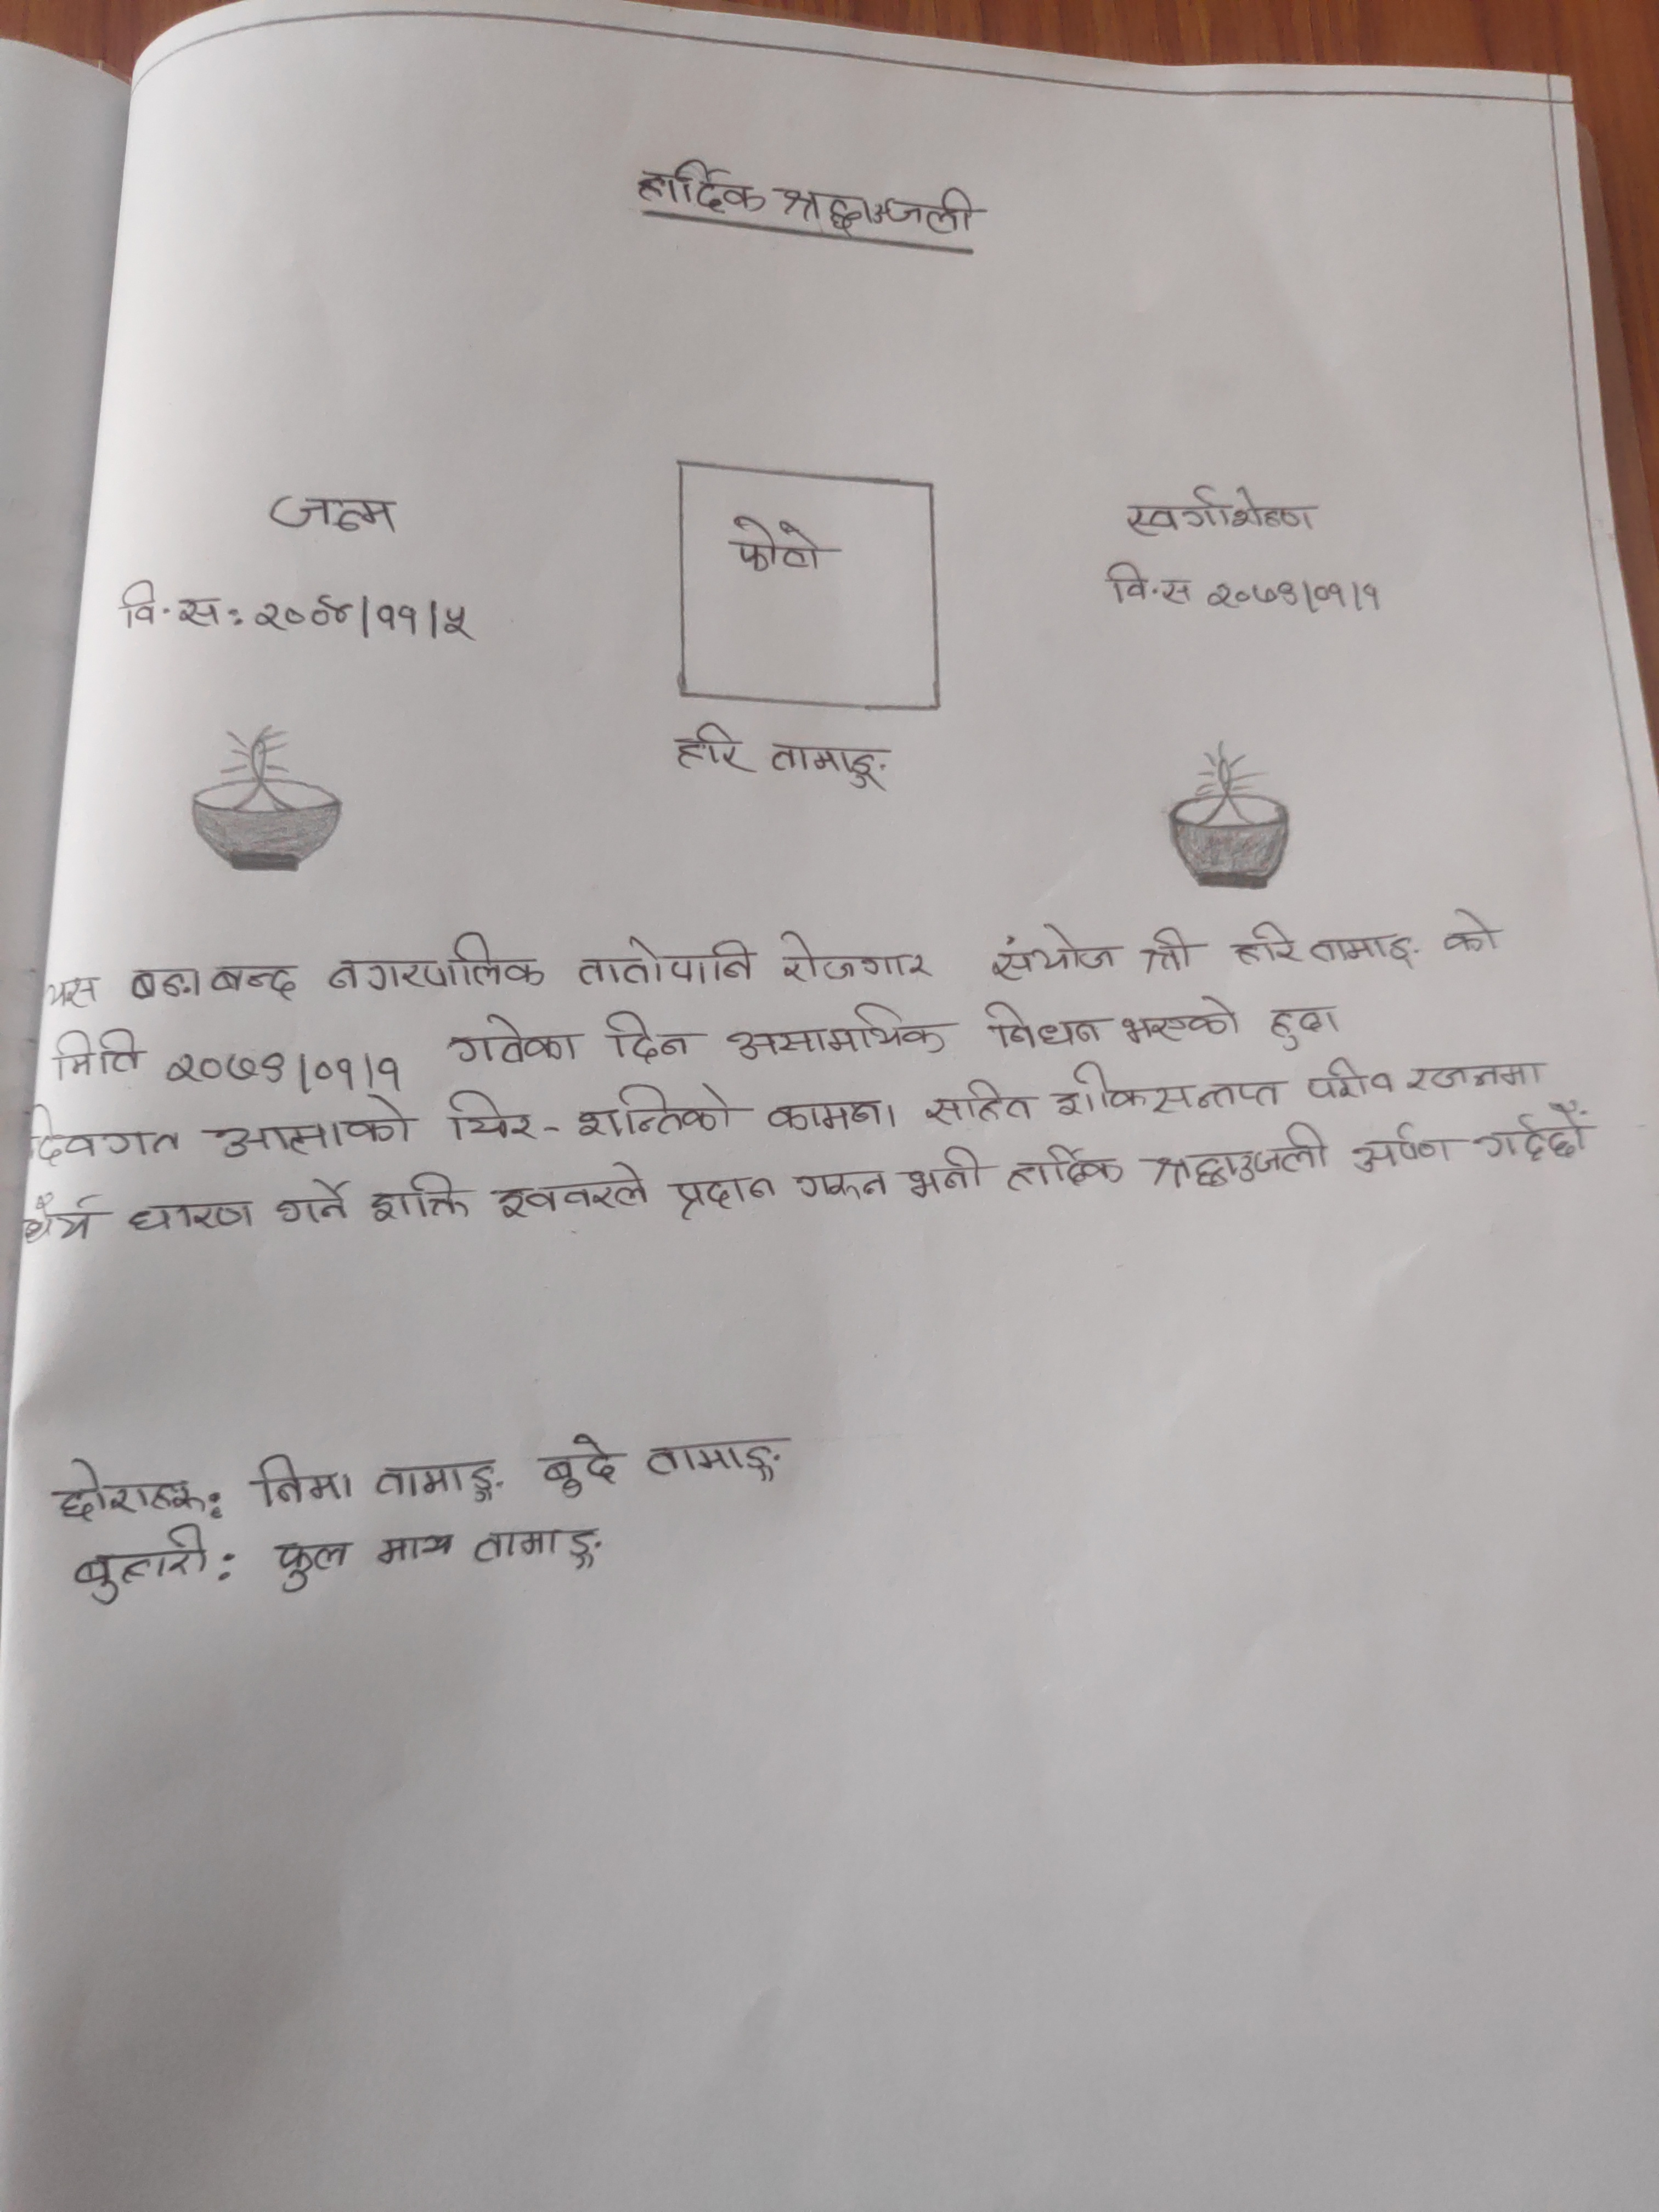text: (727, 1003, 955, 1066), (328, 928, 542, 995), (251, 589, 481, 646), (1054, 1064, 1288, 1120), (775, 181, 981, 244), (160, 1043, 410, 1094), (209, 1099, 415, 1160), (1141, 1125, 1338, 1188), (774, 918, 931, 989), (573, 932, 765, 988), (71, 1529, 216, 1601), (1124, 488, 1314, 542), (45, 1458, 207, 1521), (626, 158, 770, 226), (573, 1078, 737, 1137), (28, 1109, 186, 1170), (493, 1163, 652, 1224), (1469, 1103, 1607, 1170), (640, 1428, 795, 1487), (1202, 571, 1389, 620), (444, 1010, 589, 1073), (125, 956, 303, 1007), (749, 1090, 918, 1143), (988, 920, 1121, 984), (972, 991, 1105, 1055), (723, 514, 835, 587), (1114, 993, 1248, 1052), (765, 735, 904, 791), (1396, 1054, 1568, 1097), (471, 1526, 610, 1575), (1006, 1141, 1131, 1195), (267, 491, 404, 540), (246, 1454, 356, 1514), (532, 1430, 624, 1500), (366, 1170, 471, 1231), (369, 1460, 516, 1503), (124, 1188, 258, 1235), (918, 1076, 1039, 1129), (443, 1087, 545, 1148), (1345, 1116, 1453, 1174), (51, 1024, 150, 1085), (115, 577, 223, 632), (664, 1172, 784, 1221), (1298, 928, 1424, 972), (598, 1007, 694, 1062), (903, 1143, 990, 1204), (16, 1190, 112, 1244), (1101, 561, 1197, 611), (796, 1162, 894, 1211), (671, 723, 749, 782), (274, 1538, 352, 1594), (1269, 995, 1344, 1052), (1438, 904, 1504, 967), (277, 1176, 354, 1224), (1227, 916, 1300, 967), (368, 1527, 464, 1566), (1138, 920, 1197, 979), (1305, 1059, 1373, 1101), (45, 970, 101, 1012)
